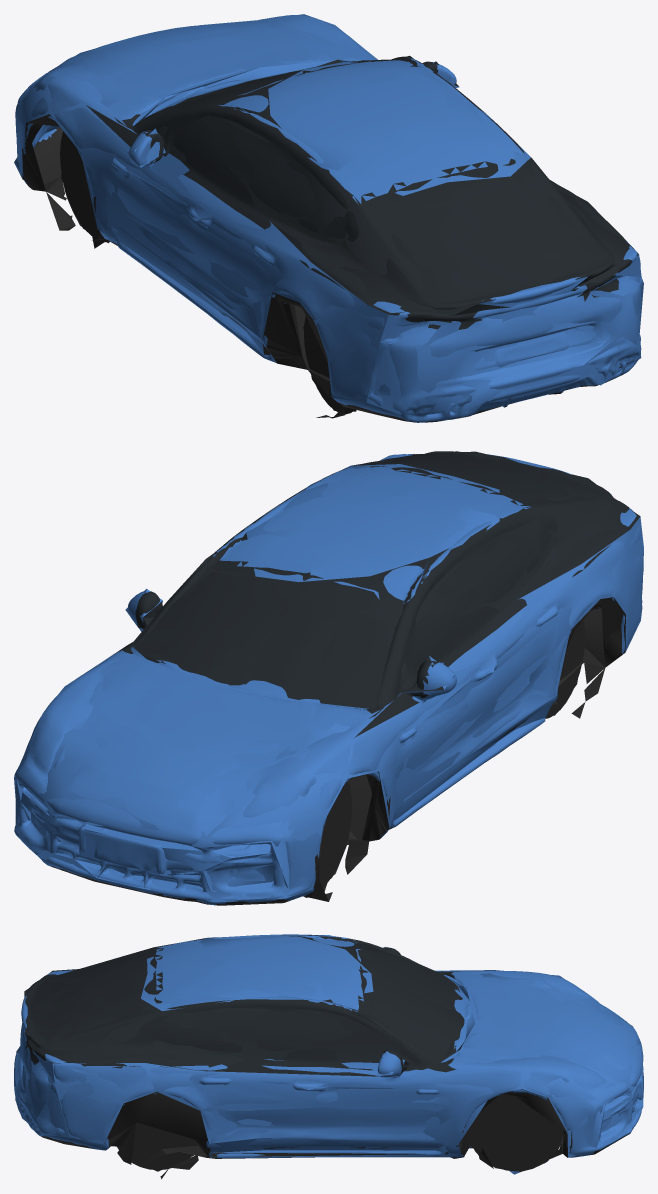
File: porsche-panamera.glb
3 views of the same model, one above another, from view 1: azimuth 30°, elevation 25°; view 2: azimuth 150°, elevation 25°; view 3: azimuth 270°, elevation 25° (orthographic). The views are drawn at different scales.
Parts seen in each view (by area): view 1: body, far; view 2: body, far; view 3: body, far.
Part boxes in pixels (left/top/right/bottom): body: left=15, top=15, right=642, bottom=422; far: left=14, top=14, right=643, bottom=414; body: left=14, top=451, right=643, bottom=905; far: left=15, top=451, right=643, bottom=902; body: left=14, top=934, right=643, bottom=1179; far: left=15, top=935, right=643, bottom=1174.
Bounding box in the file's own units: 2.31 × 1.59 × 5.2.
